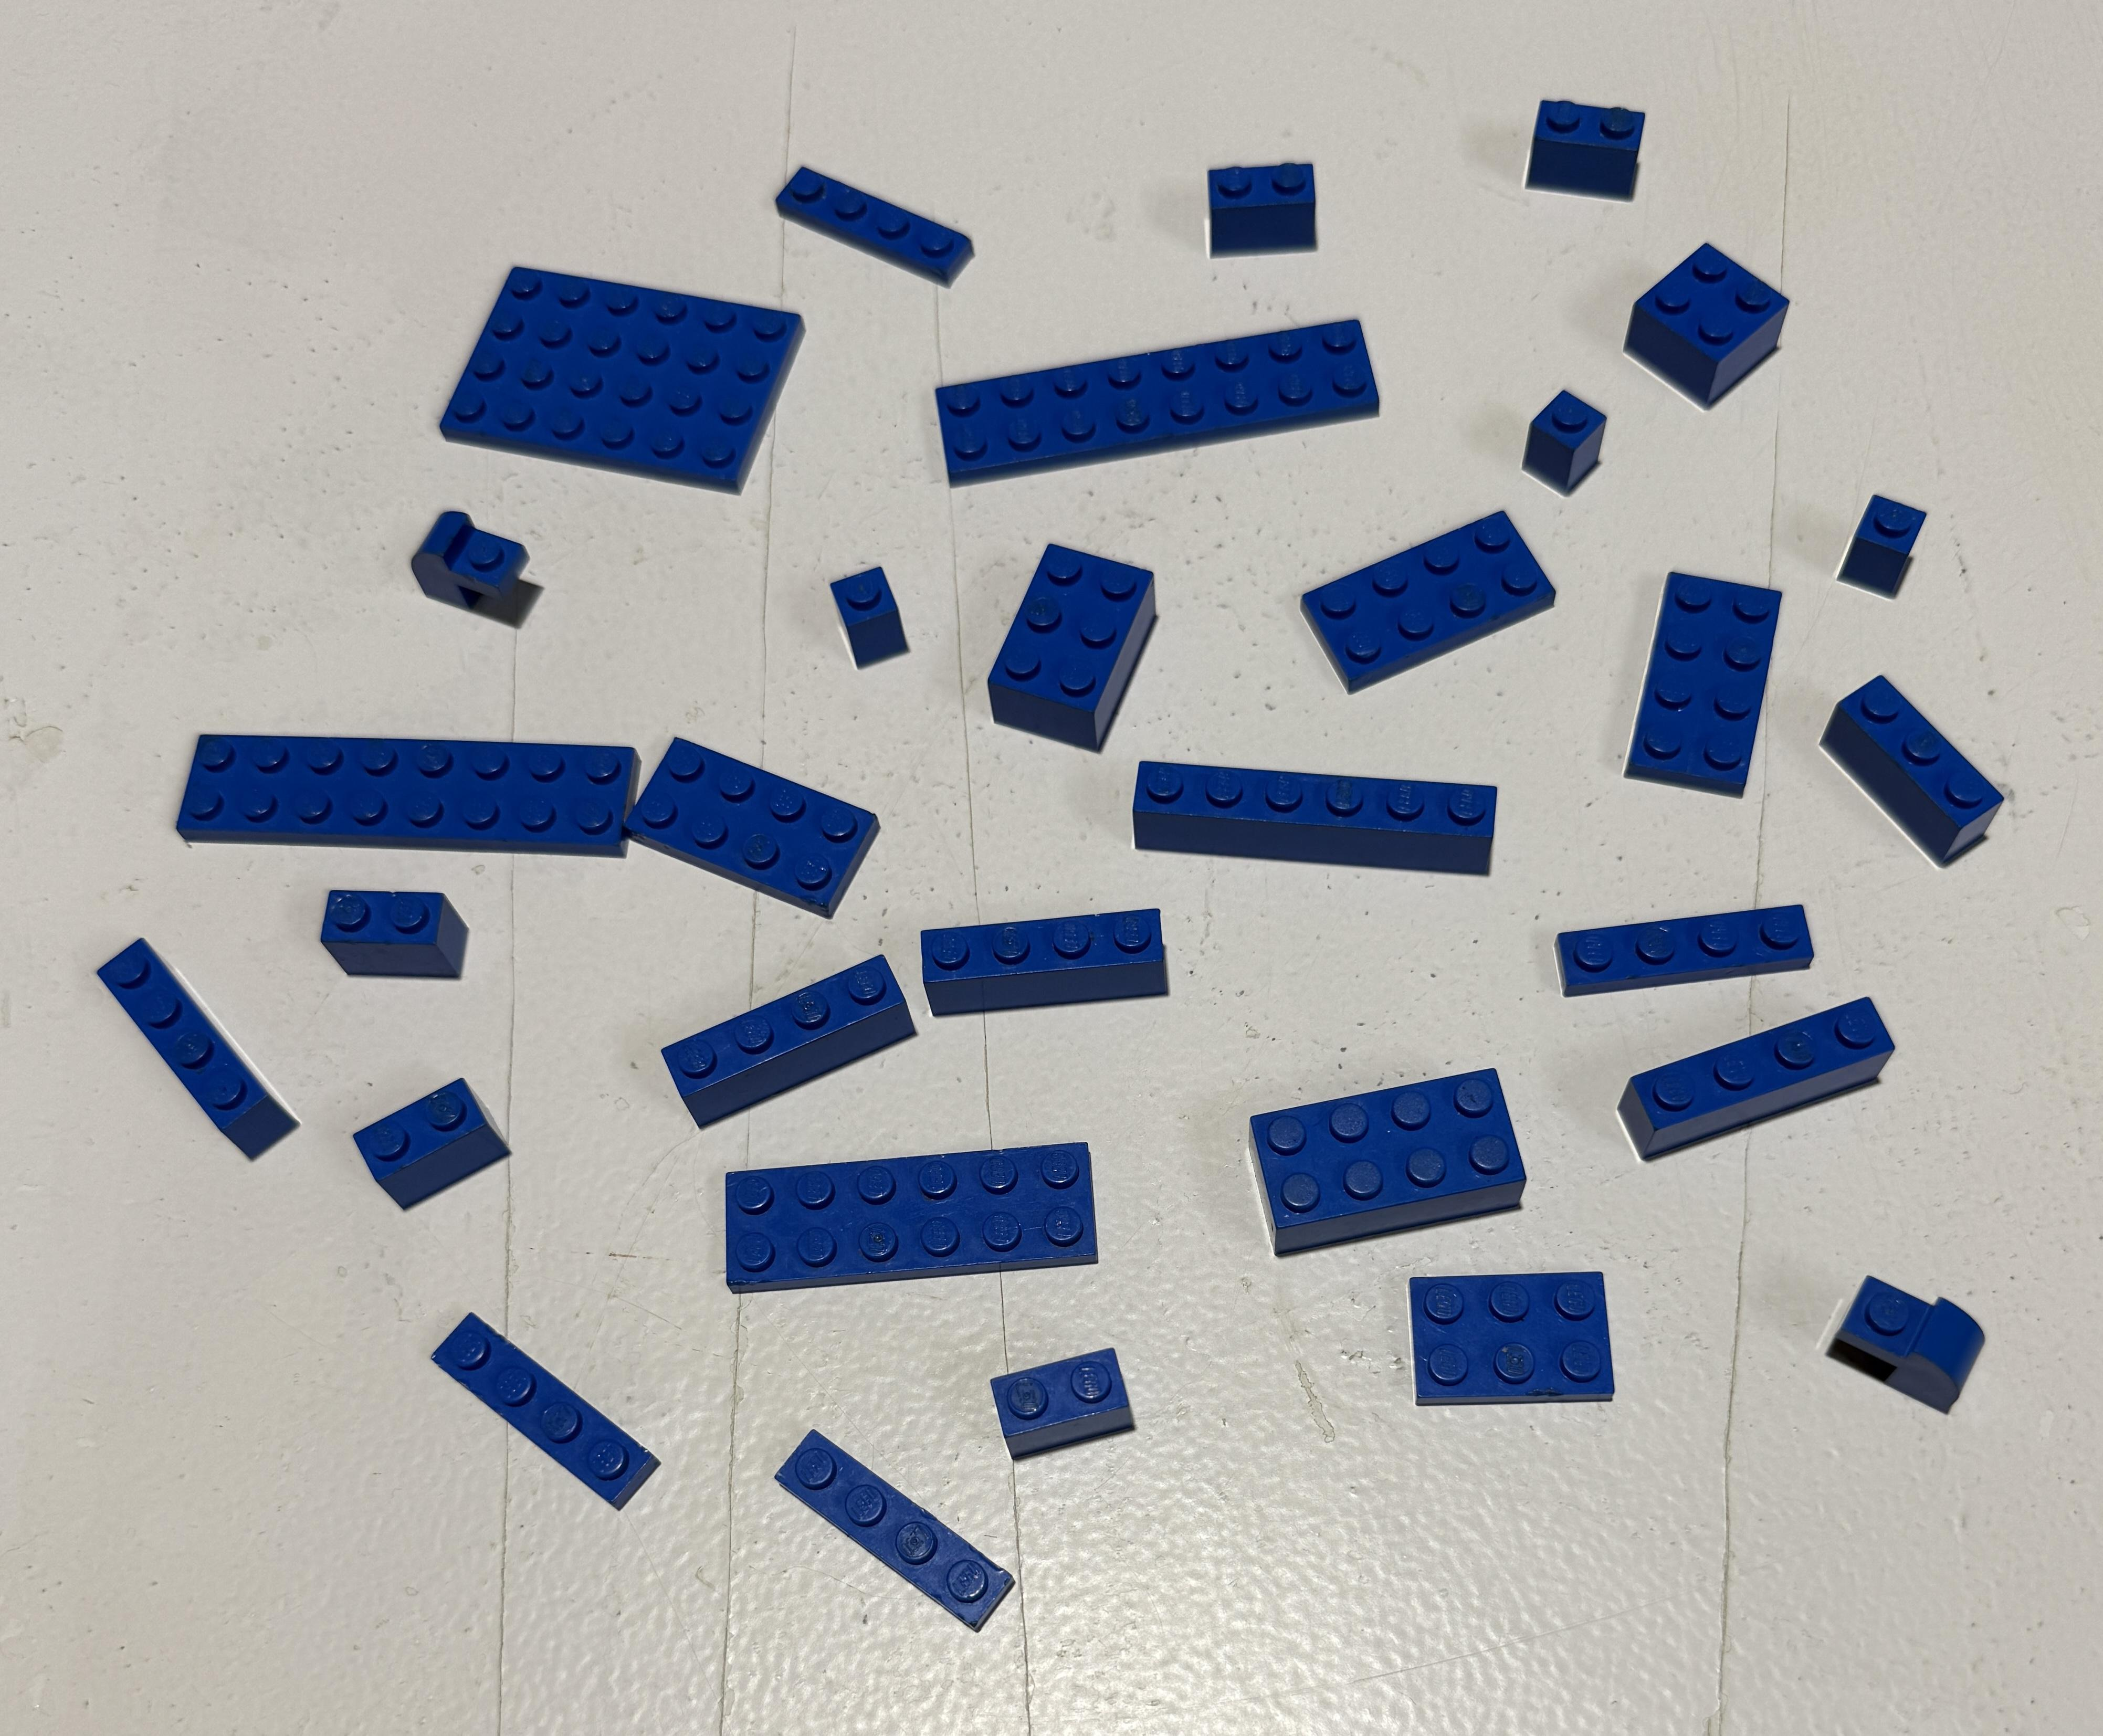brick_1x1: (1509, 363, 1628, 527), (819, 536, 926, 688), (1829, 484, 1948, 613)
brick_1x2: (325, 1046, 533, 1238), (286, 861, 503, 1006), (975, 1319, 1165, 1472), (1176, 133, 1359, 274), (1502, 80, 1673, 225)
brick_1x3: (1803, 655, 2037, 903)
brick_1x4: (414, 1292, 707, 1554), (1596, 983, 1918, 1188), (72, 896, 306, 1174), (625, 933, 938, 1135), (894, 865, 1189, 1043)
brick_2x2: (1609, 227, 1810, 430)
brick_2x3: (966, 524, 1172, 768)
brick_2x4: (1238, 1041, 1532, 1280)
